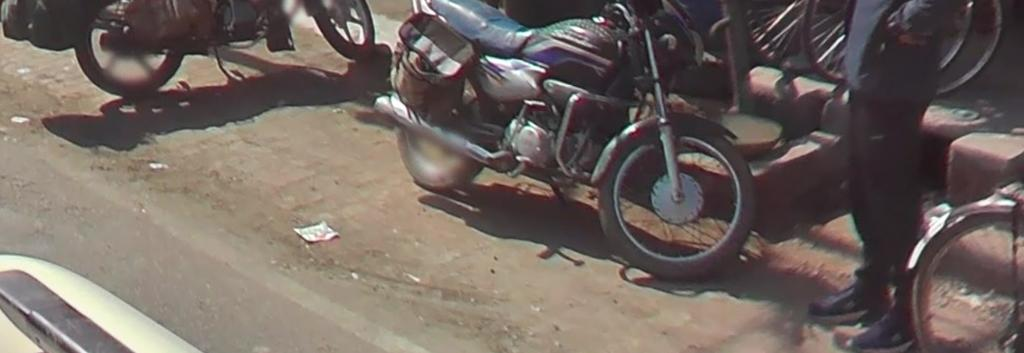garbage: (291, 215, 343, 252)
